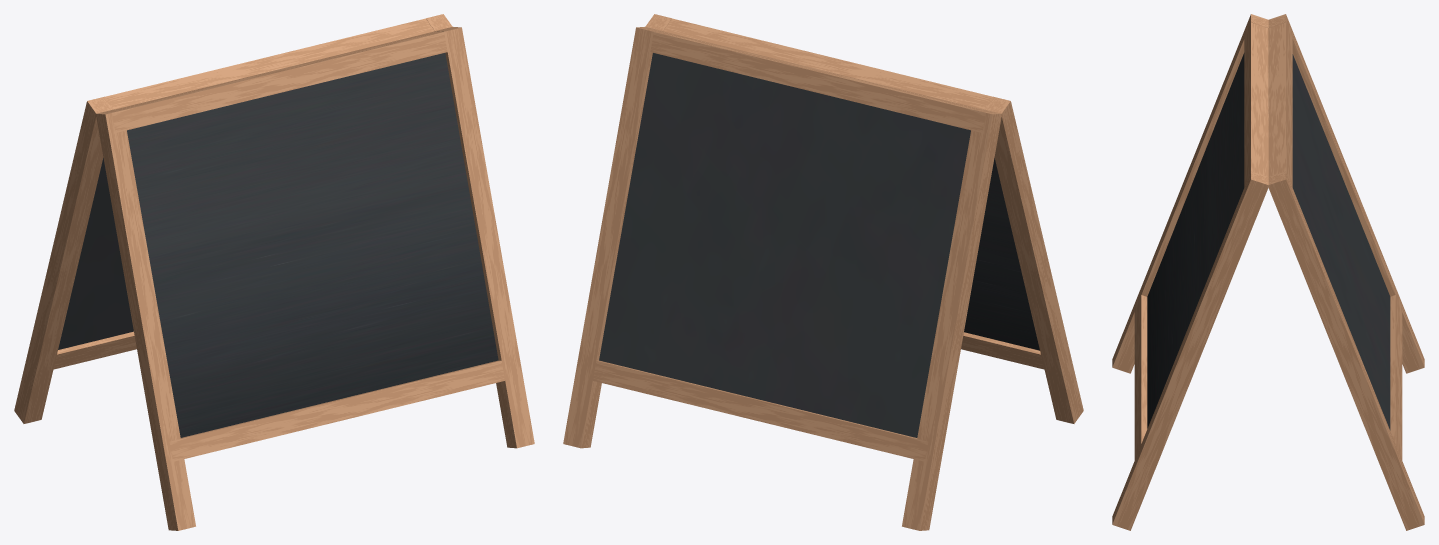
File: prices board.glb
The picture shows the model from 3 angles, left to right: view 1: azimuth 30°, elevation 25°; view 2: azimuth 150°, elevation 25°; view 3: azimuth 270°, elevation 25°; orthographic projection. The views are drawn at different scales.
Visible parts, largest first — view 1: Cube.003, Cube.001; view 2: Cube.003, Cube.001; view 3: Cube.001, Cube.003.
Part boxes in pixels (<box>): Cube.003: <box>58,53,498,437</box>; Cube.001: <box>14,14,534,530</box>; Cube.003: <box>599,53,1039,437</box>; Cube.001: <box>563,14,1083,530</box>; Cube.001: <box>1112,14,1424,530</box>; Cube.003: <box>1147,53,1390,430</box>.
Bounding box in the file's own units: 4 × 3.96 × 3.19.
Materials: 2 (2 with a texture image).
